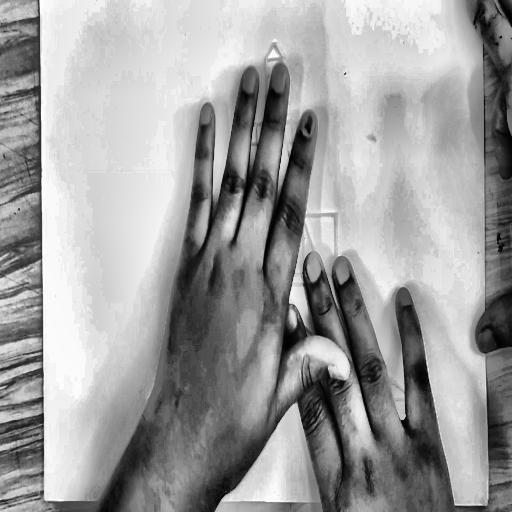bottom_left: (42, 493, 50, 507)
bottom_right: (485, 500, 490, 508)
eiffel-tower: (136, 29, 429, 411)
